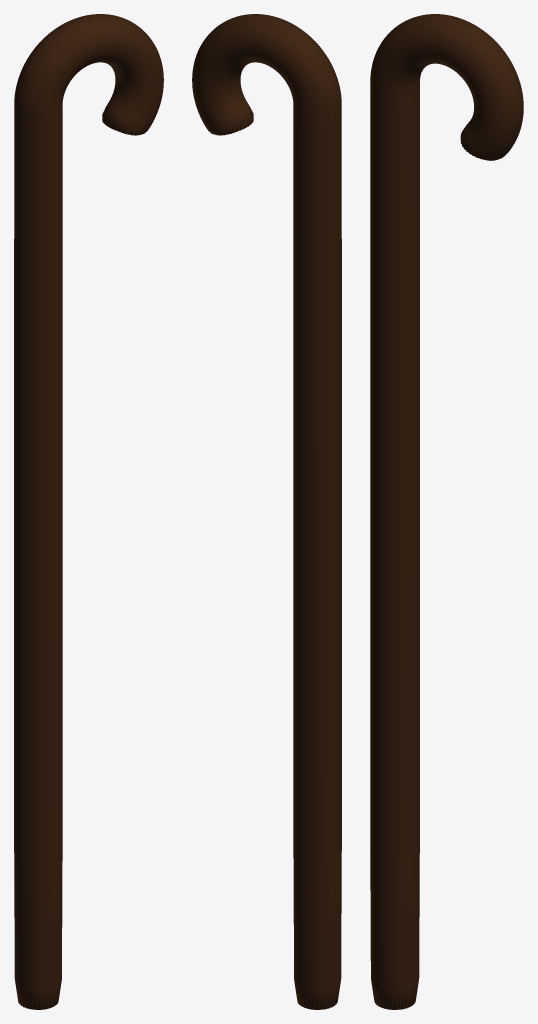
The model's file is Cane.fbx.
3 views of the same model, side by side, from view 1: azimuth 30°, elevation 25°; view 2: azimuth 150°, elevation 25°; view 3: azimuth 330°, elevation 25° (orthographic). The views are drawn at different scales.
Parts seen in each view (by area): view 1: Cylinder; view 2: Cylinder; view 3: Cylinder.
Boxes of the visible parts, left/top/right/bottom form: Cylinder: left=14, top=14, right=163, bottom=1009; Cylinder: left=192, top=14, right=341, bottom=1009; Cylinder: left=370, top=14, right=523, bottom=1009.
Bounding box in the file's own units: 33.91 × 220 × 9.94.
